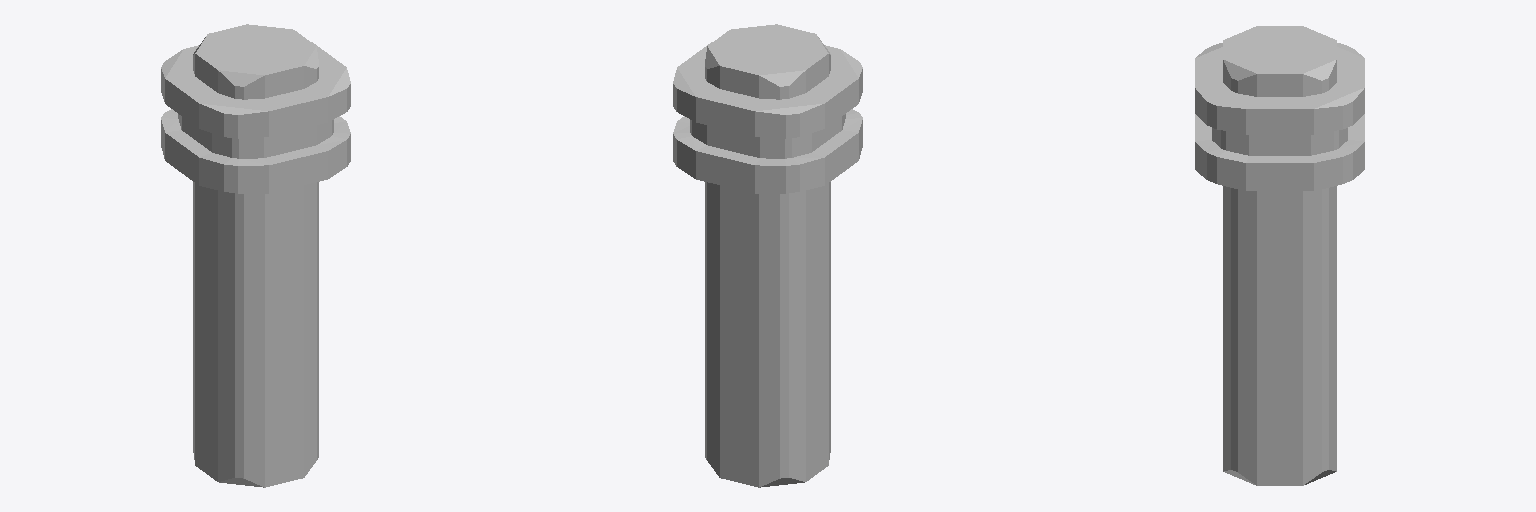
Rendered from HomingTower.obj.
The picture shows the model from 3 angles: view 1: azimuth 30°, elevation 25°; view 2: azimuth 150°, elevation 25°; view 3: azimuth 270°, elevation 25°; orthographic projection.
Parts seen in each view (by area): view 1: HomingTower; view 2: HomingTower; view 3: HomingTower.
Part boxes in pixels (bbox=[...]): HomingTower: bbox=[161, 24, 350, 487]; HomingTower: bbox=[673, 24, 862, 487]; HomingTower: bbox=[1195, 26, 1364, 485].
Size of the model in its own units: 1.5 by 4 by 1.5.